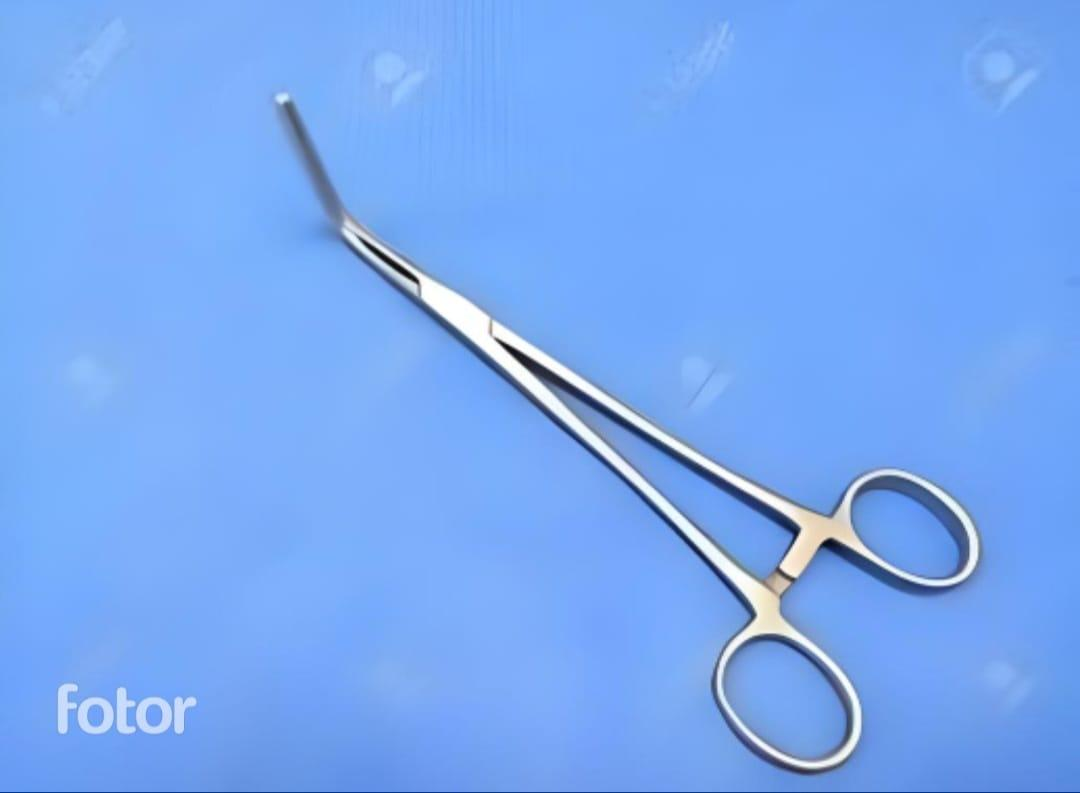Rectangle Cholecystectomy Forceps: (270, 83, 986, 784)
